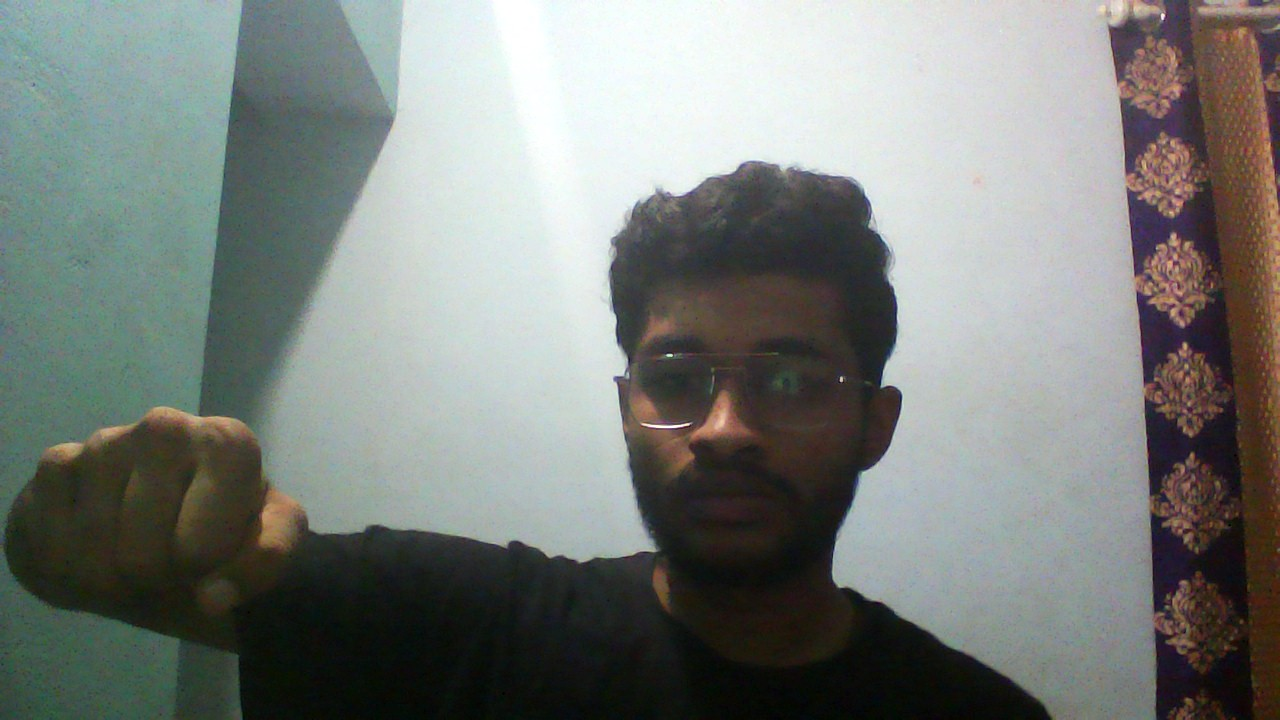Yes: (13, 335, 357, 631)
